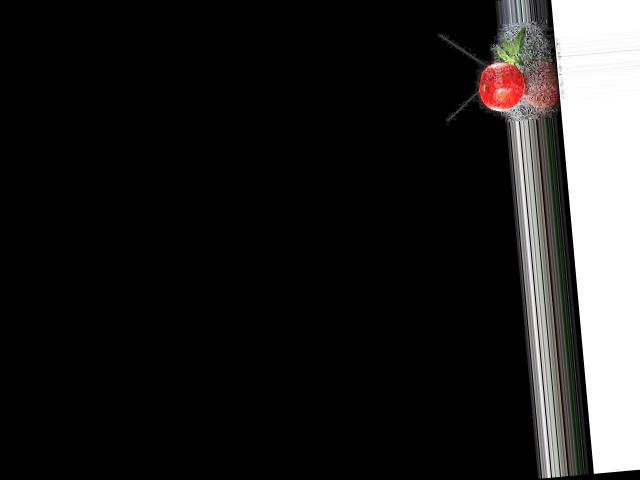tomato: (476, 60, 526, 112)
